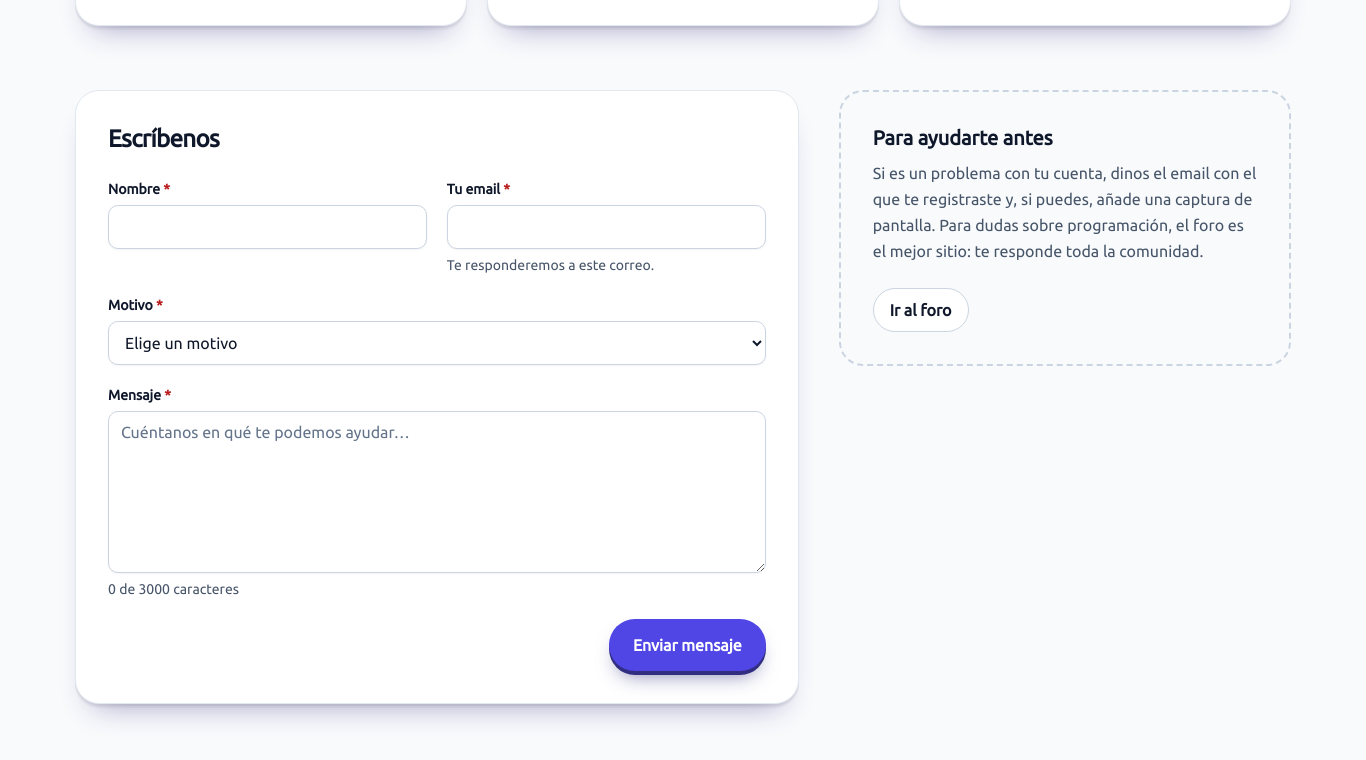
Scenario: ContactPage › no envía un mensaje incompleto y explica qué falta
(page scrolled)
Step 1. Click the button "Enviar mensaje" → (687, 644), box [609, 618, 766, 670]
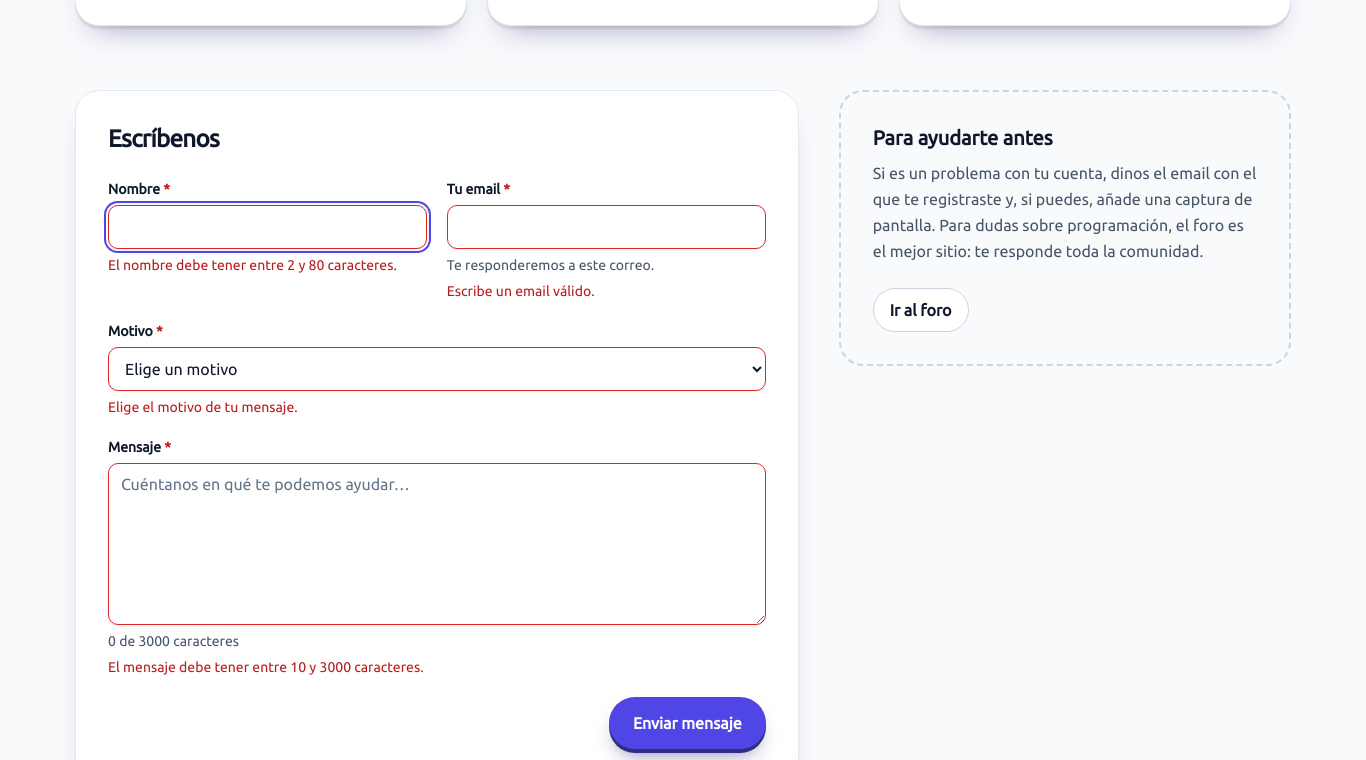
Now the text "Elige el motivo de tu mensaje." is shown, box [108, 398, 298, 414]
